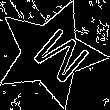M_SW: (16, 20, 85, 88)
